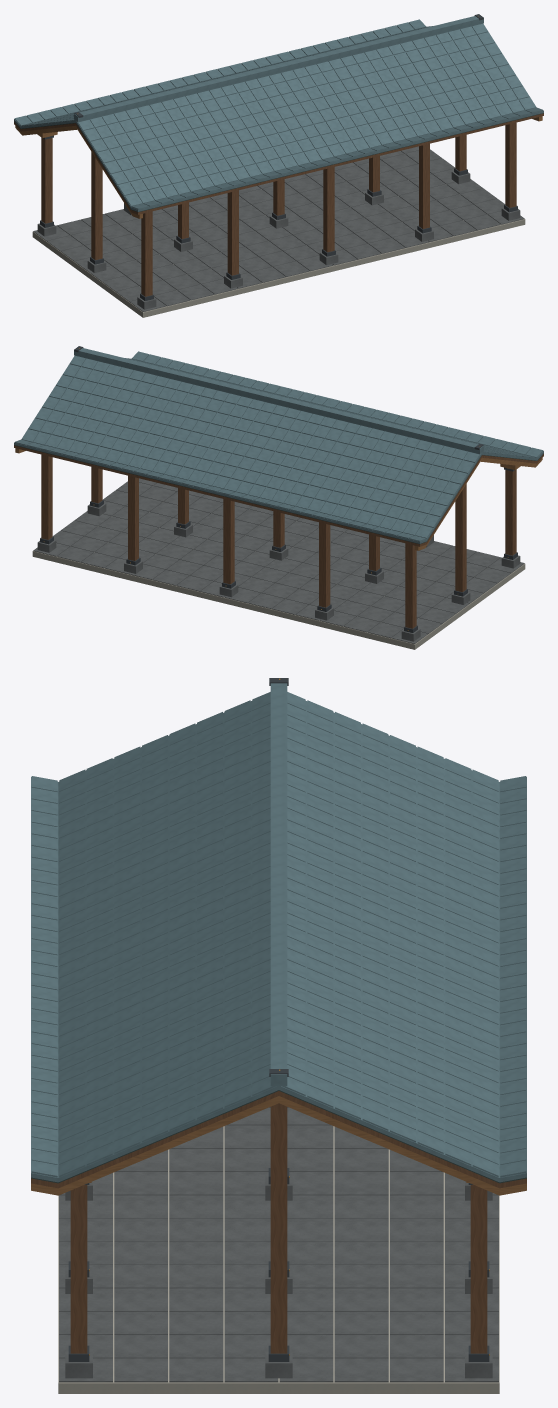
3 views of the same model, one above another, from view 1: azimuth 30°, elevation 25°; view 2: azimuth 150°, elevation 25°; view 3: azimuth 270°, elevation 25° (orthographic). The views are drawn at different scales.
Parts seen in each view (by area): view 1: 旧住宅单/双脊连续屋面, 石铺面与混凝土楼板 (×8), 木柱、石础与金属抱箍 (×11); view 2: 旧住宅单/双脊连续屋面, 石铺面与混凝土楼板 (×8), 木柱、石础与金属抱箍 (×11); view 3: 旧住宅单/双脊连续屋面, 石铺面与混凝土楼板 (×6), 木柱、石础与金属抱箍 (×3).
Part boxes in pixels (x1,y1,x2,y2): 旧住宅单/双脊连续屋面: (14, 14, 543, 218); 石铺面与混凝土楼板 (×8): (32, 146, 525, 317); 木柱、石础与金属抱箍 (×11): (37, 122, 520, 309); 旧住宅单/双脊连续屋面: (14, 346, 543, 550); 石铺面与混凝土楼板 (×8): (32, 478, 525, 649); 木柱、石础与金属抱箍 (×11): (37, 454, 520, 641); 旧住宅单/双脊连续屋面: (31, 678, 526, 1195); 石铺面与混凝土楼板 (×6): (58, 1107, 499, 1393); 木柱、石础与金属抱箍 (×3): (65, 1103, 492, 1378).
Size of the model in its own units: 13.6 by 5.32 by 7.2.
9 materials, 9 textured.
